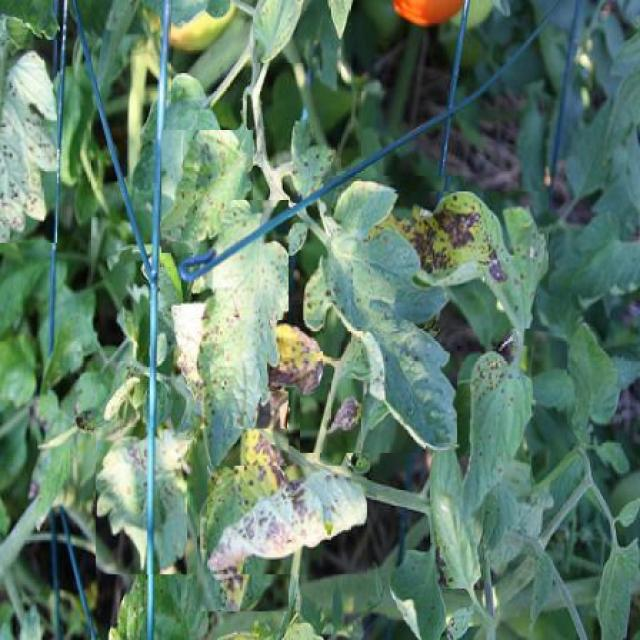Septoria: (300, 176, 466, 454), (194, 200, 289, 479), (368, 192, 549, 328), (208, 466, 368, 575), (198, 429, 289, 611), (96, 427, 188, 574), (457, 346, 532, 526), (0, 41, 57, 242), (162, 130, 254, 254), (426, 442, 484, 589), (568, 321, 622, 443), (387, 543, 446, 640), (591, 537, 640, 640), (267, 320, 323, 391), (290, 118, 336, 202), (254, 0, 305, 63)
